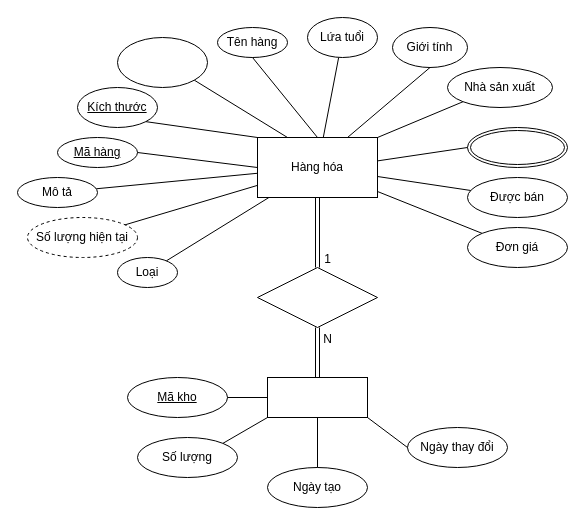
This 585x525 diagram has some shape labels left out. The shapes that lost their labels are listed below. From the top down, each one's centre as x and y in pixels, then its label:
the point at 162,62: Màu
the point at 517,147: Hình ảnh
the point at 317,297: Bao gồm
the point at 317,397: Hàng trong kho
